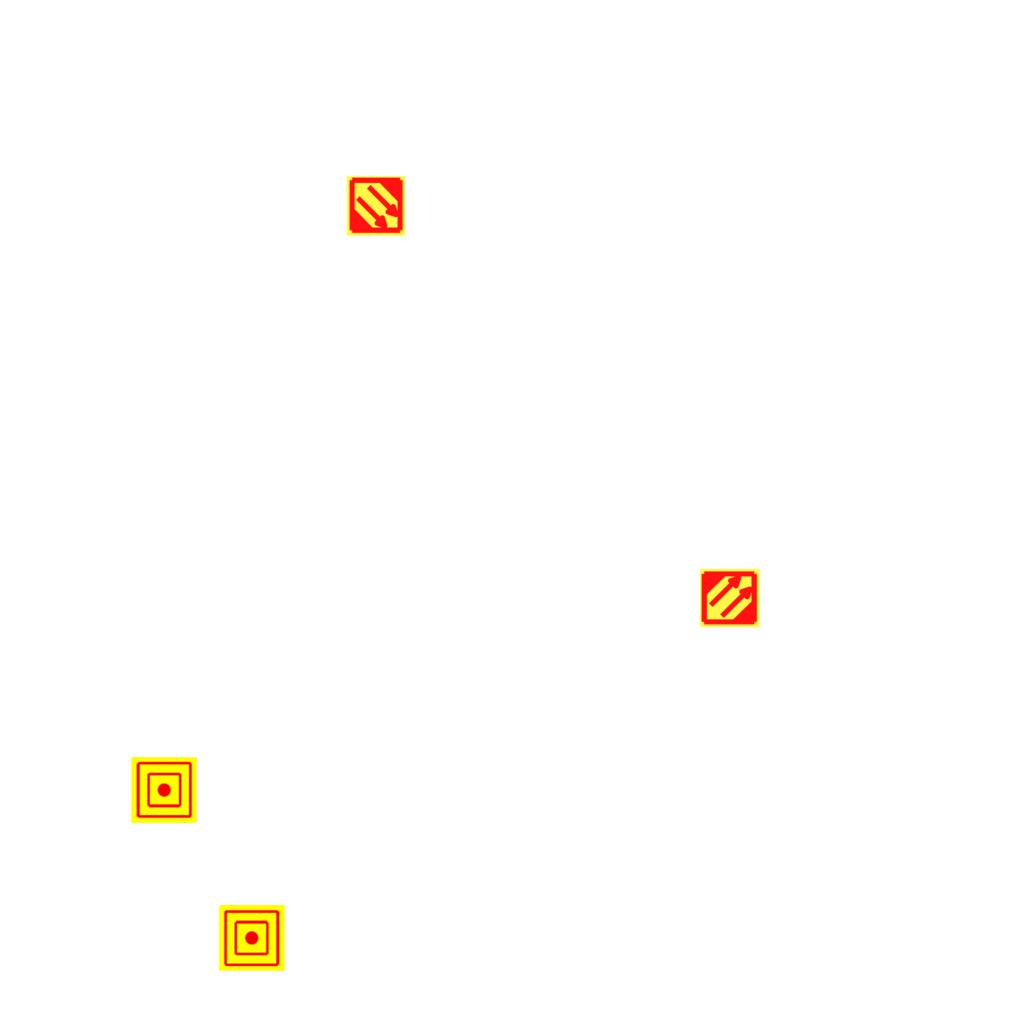ASR_Ansaugrauchmelder: (345, 175, 407, 237), (699, 567, 761, 629)
NAM-Nichtautomatischer_Melder: (131, 757, 197, 823), (219, 905, 285, 971)
